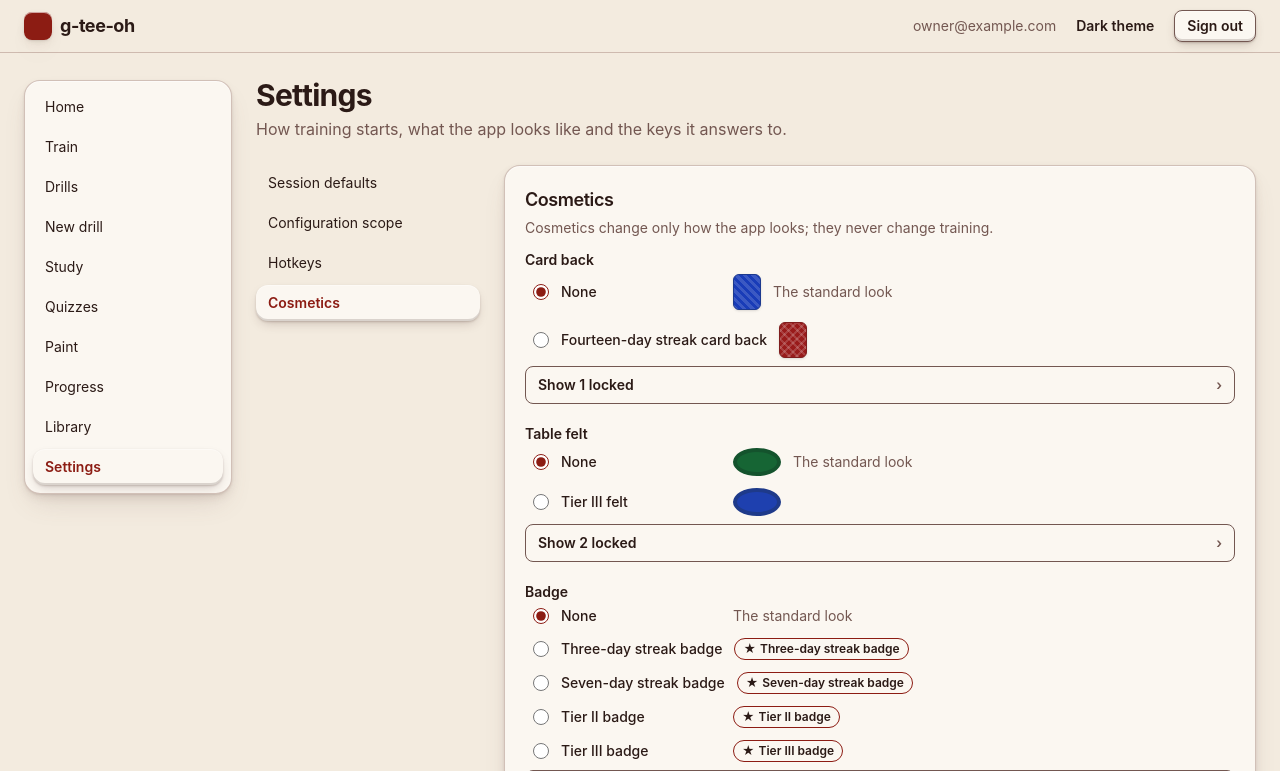
Test: R4.14 /settings cosmetics › R4.14 unlocked items are selectable; locked items are disabled and named with their unlock rule
The image size is (1280, 771).
Expected: the element "Cosmetics" shows "Cosmetics change only how the app looks; they never change training.", [525,219,993,236]
Expected: the 1st radio button labelled "None The standard look" is checked, [533,284,549,300]
Click the button "Show 1 locked ›" at (586, 384), box [525,366,1235,404]
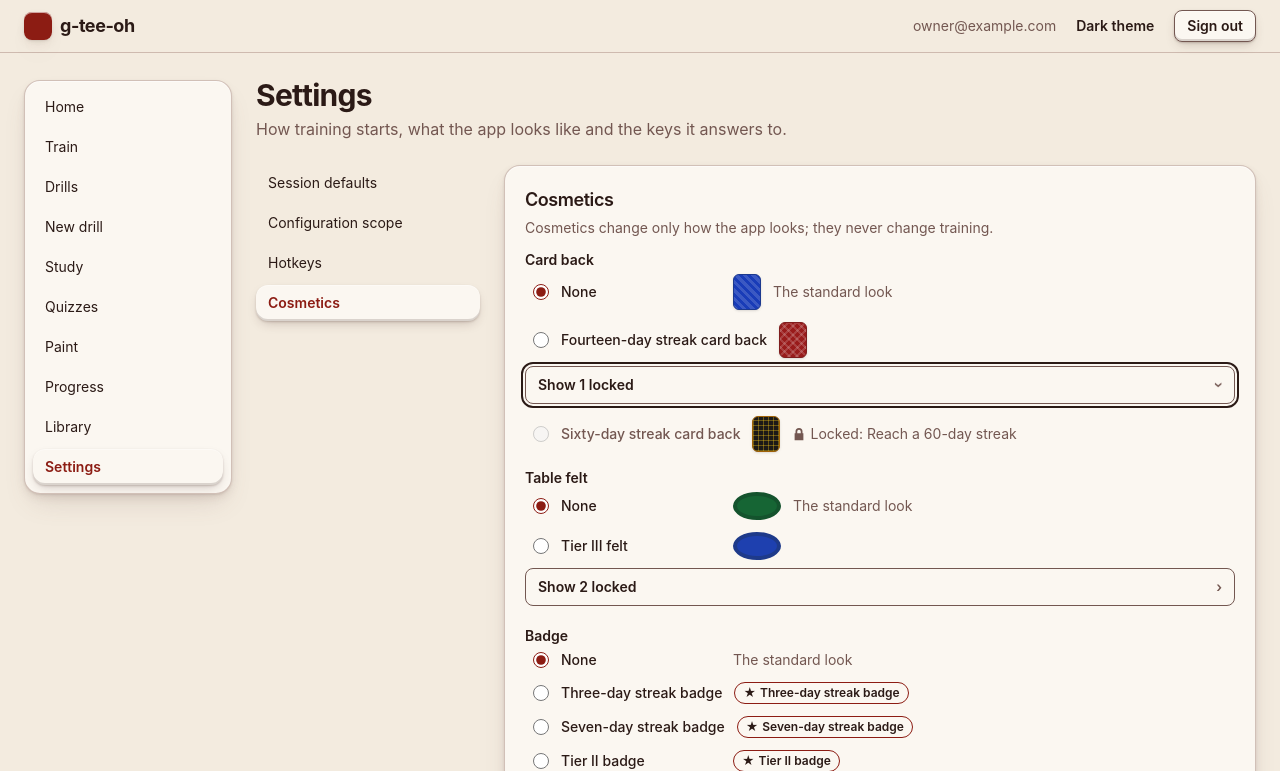
Expected: the radio button labelled "Sixty-day streak card back Locked: Reach a 60-day streak" is disabled, [533,426,549,442]
Click the button "Show 2 locked ›" at (587, 586), box [525,568,1235,606]
(page scrolled)
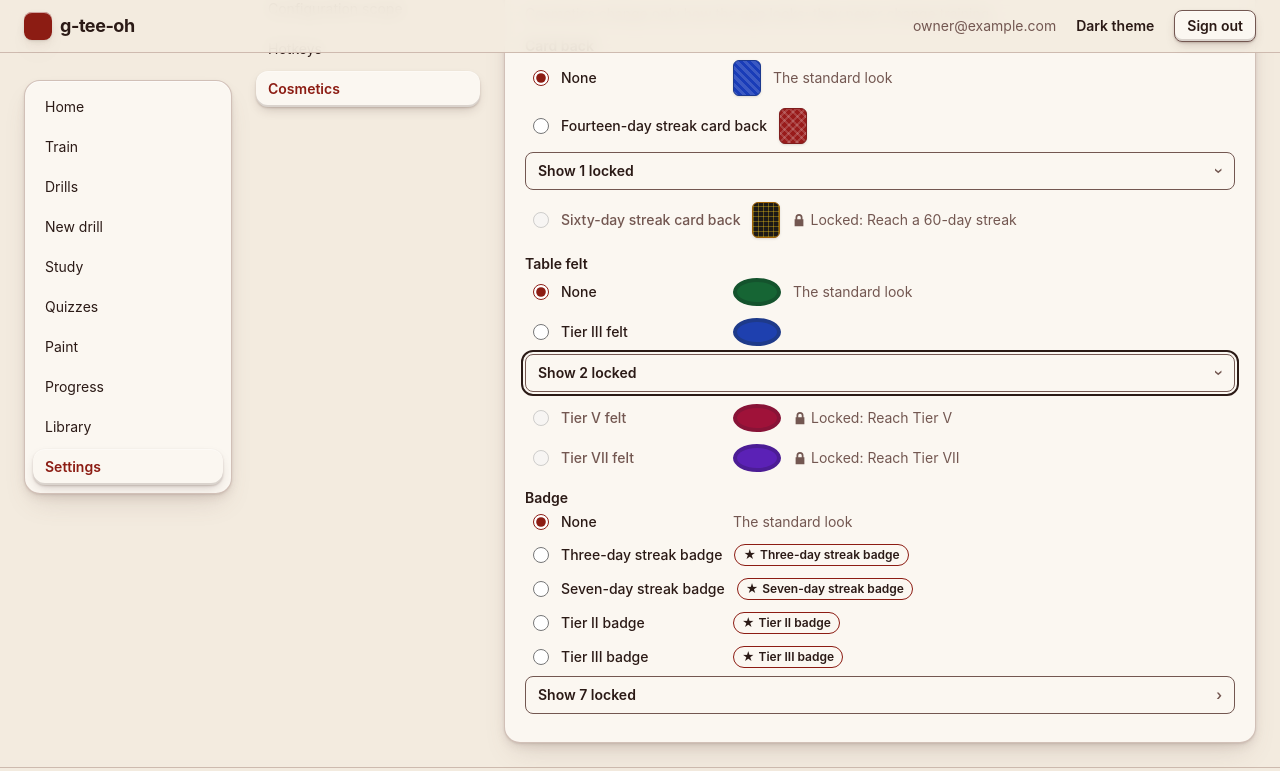
Expected: the element "Badge" is shown, [525,488,1235,722]
Expected: the radio button labelled "Tier V felt Locked: Reach Tier V" is disabled, [533,410,549,426]
Expected: the text "Locked: Reach Tier V" is shown, [793,408,952,428]
